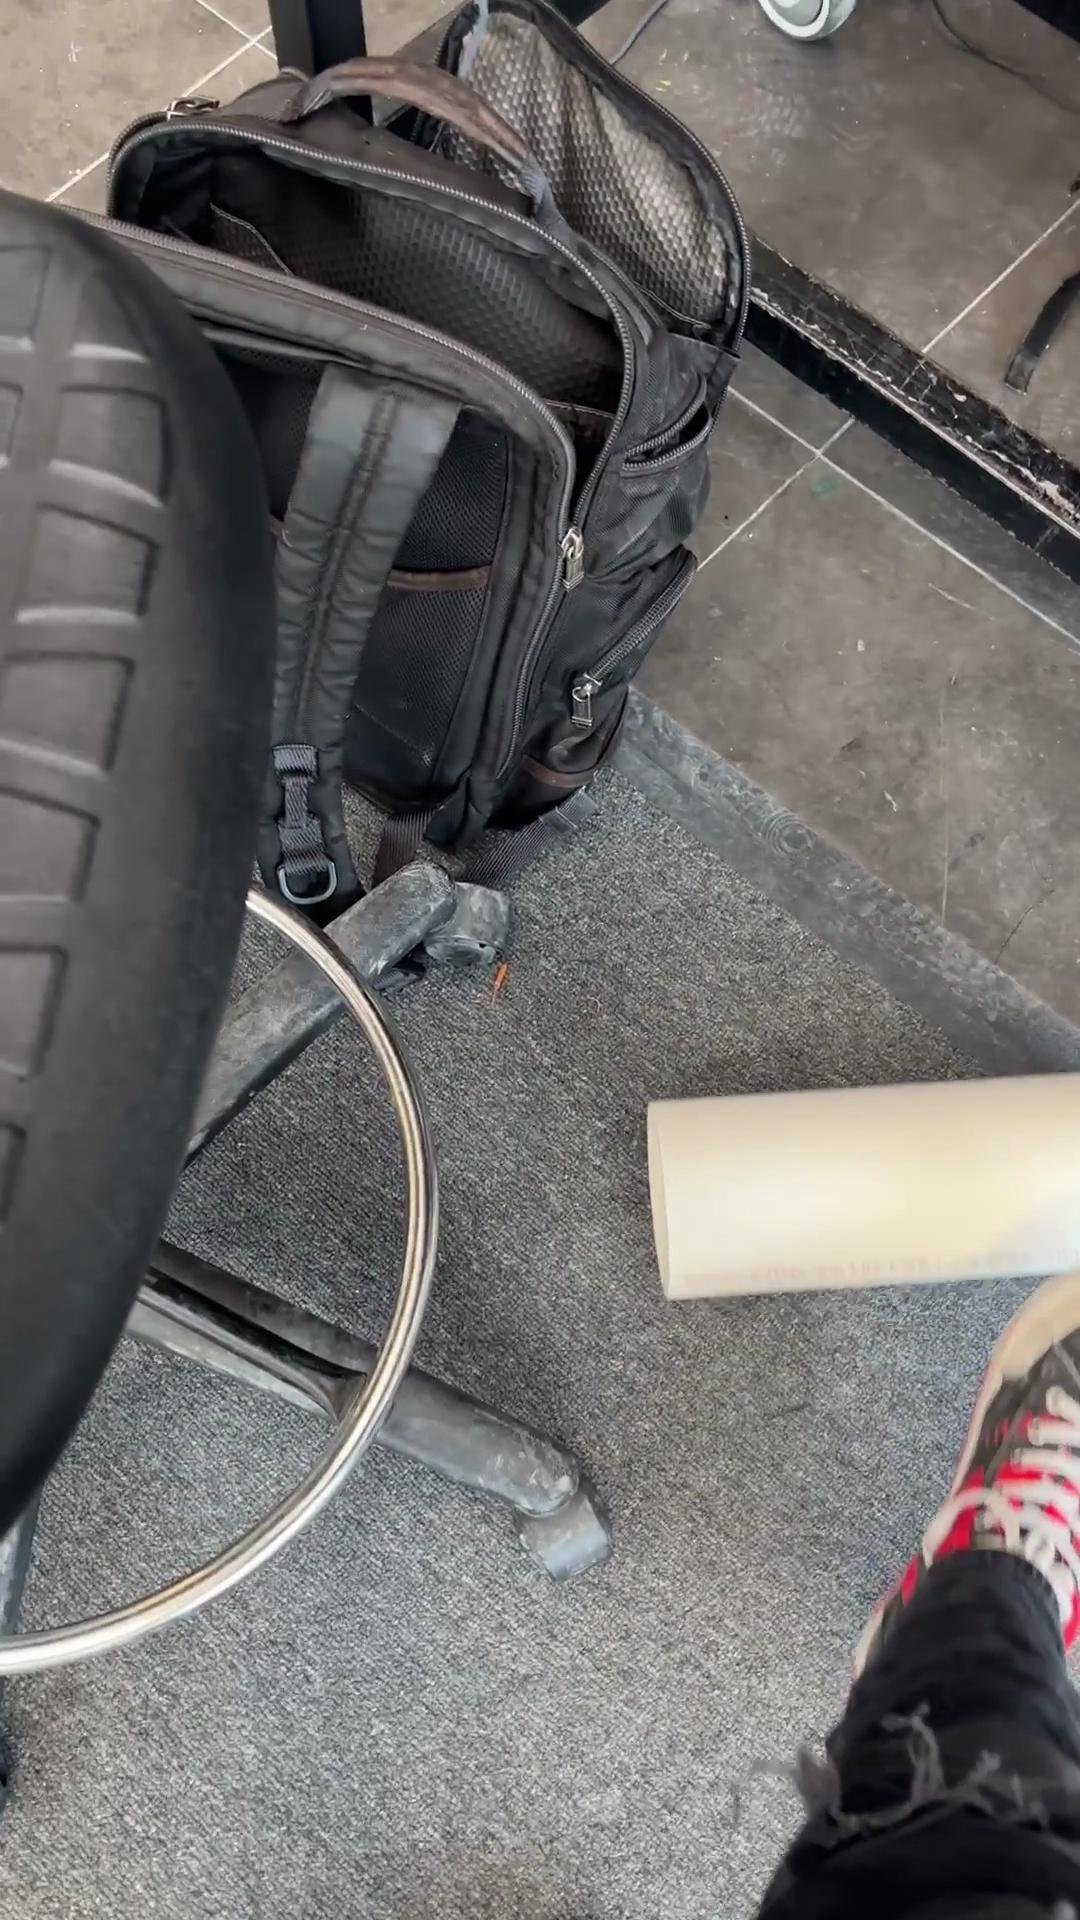CORAL: (642, 1067, 1077, 1303)
